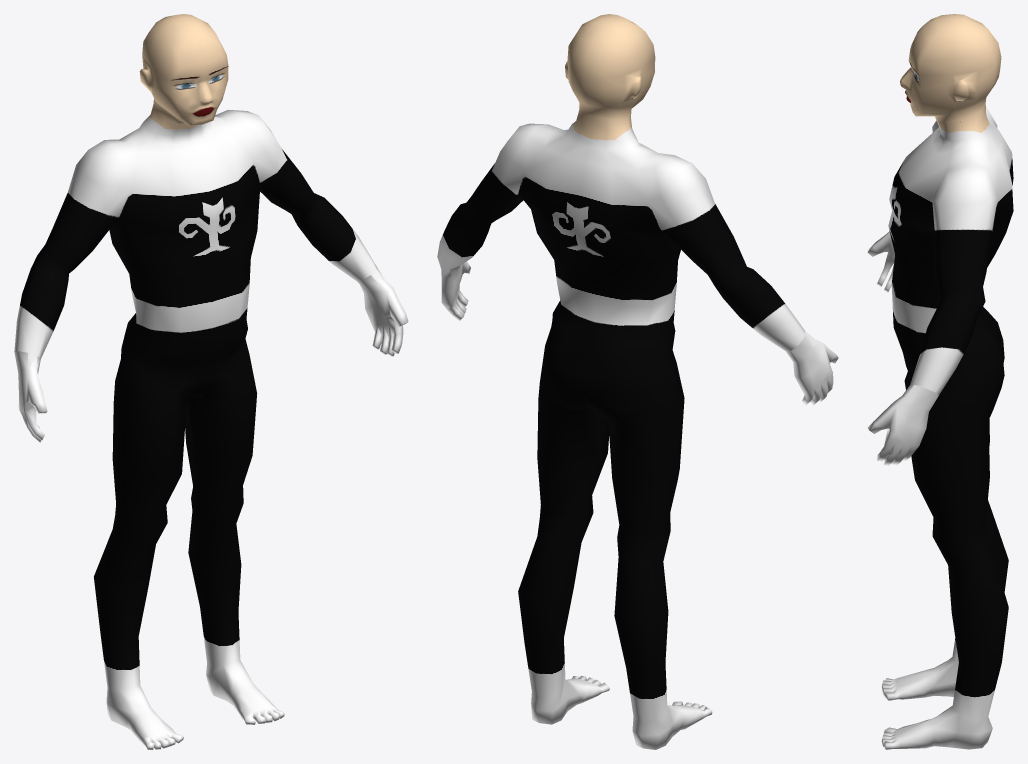
The model's file is Walker_Textured.FBX.
3 renders of one model, left to right at view 1: azimuth 30°, elevation 25°; view 2: azimuth 150°, elevation 25°; view 3: azimuth 270°, elevation 25°, orthographic.
Visible parts, largest first — view 1: Walker; view 2: Walker; view 3: Walker.
Boxes of the visible parts, <box> form: Walker: <box>14,14,408,749</box>; Walker: <box>437,14,838,749</box>; Walker: <box>867,14,1013,749</box>.
Size of the model in its own units: 162 by 284 by 53.63.
